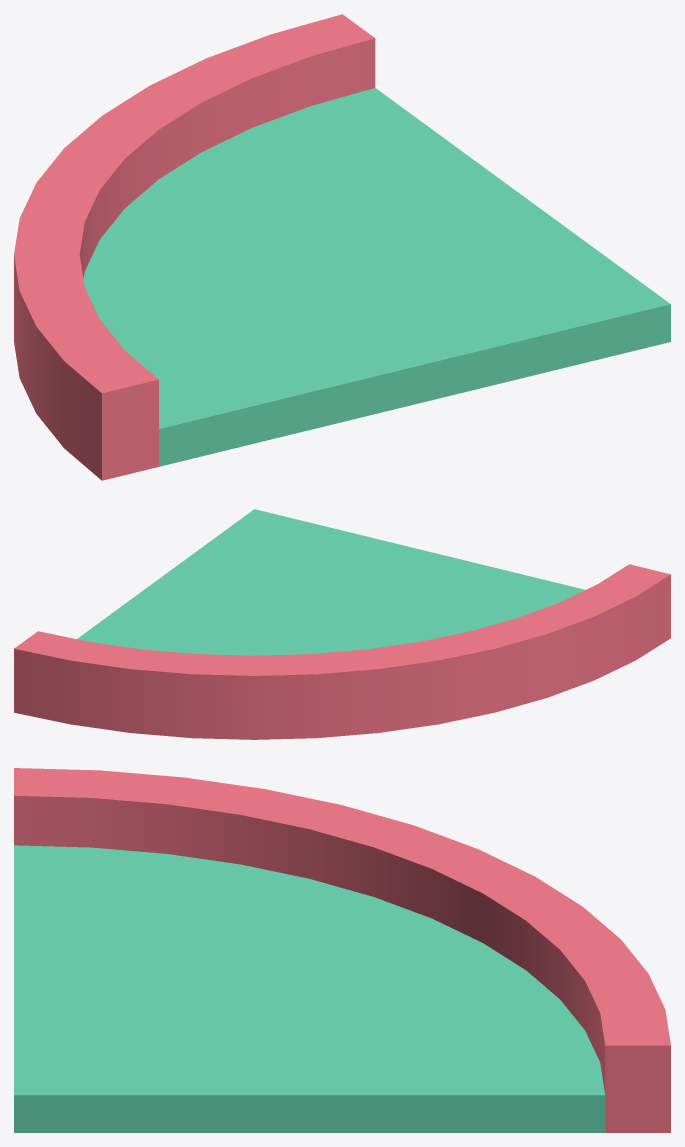
Rendered from roundCornerC.glb.
3 renders of one model, top to bottom at view 1: azimuth 30°, elevation 25°; view 2: azimuth 150°, elevation 25°; view 3: azimuth 270°, elevation 25°, orthographic. The views are drawn at different scales.
Parts seen in each view (by area): view 1: roundCornerC; view 2: roundCornerC; view 3: roundCornerC.
Boxes of the visible parts, left/top/right/bottom form: roundCornerC: left=14, top=14, right=670, bottom=480; roundCornerC: left=14, top=509, right=670, bottom=739; roundCornerC: left=14, top=768, right=670, bottom=1132.
Size of the model in its own units: 0.9999 by 0.1467 by 0.9999.
